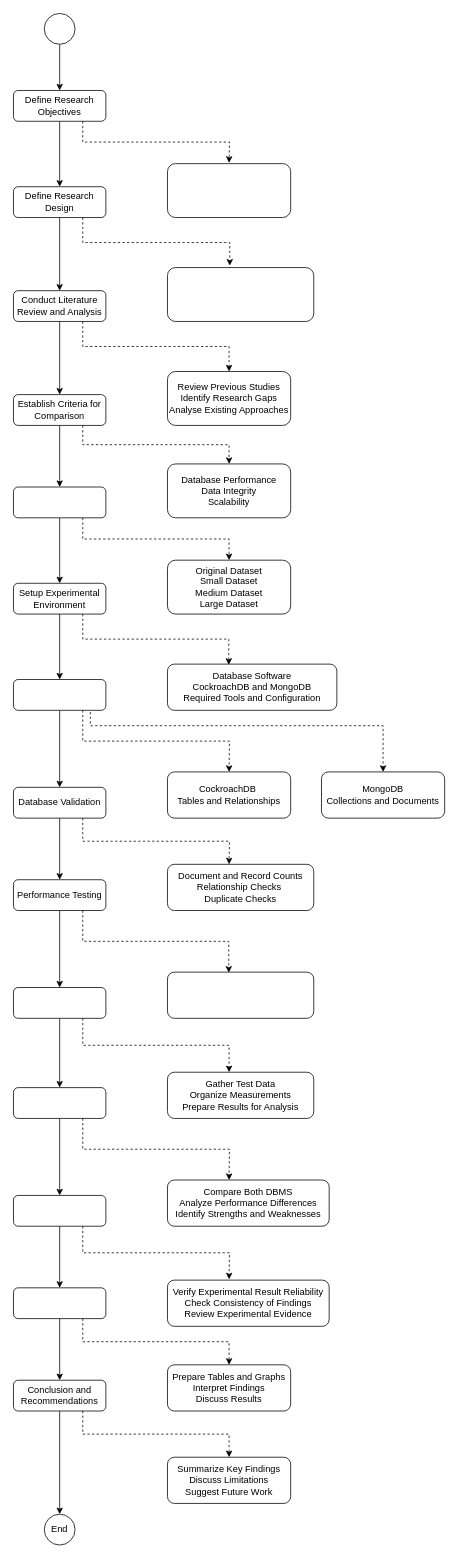
Some shapes in this 458 by 1558 pixel diagram are drawn without their labels. Each missing label, with the centre of its shape:
"Collect Experimental Results" goes at point (59, 1002).
"Comparative Study Experimental Approach Quantitative Research Approach" goes at point (240, 294).
"Data Collection and Dataset Preparation" goes at point (59, 502).
"Database Design and Implementation" goes at point (59, 694).
"Evaluation and Comparative Analysis" goes at point (59, 1102).
"Execute Test Operations Measure Performance Record Measurements" goes at point (240, 994).
"Research Aim Research Questions Scope of the Study" goes at point (229, 190).
"Start" goes at point (59, 28).
"Validation of Experimental Results" goes at point (59, 1210).
"Visualize and Discuss Results" goes at point (59, 1303).
